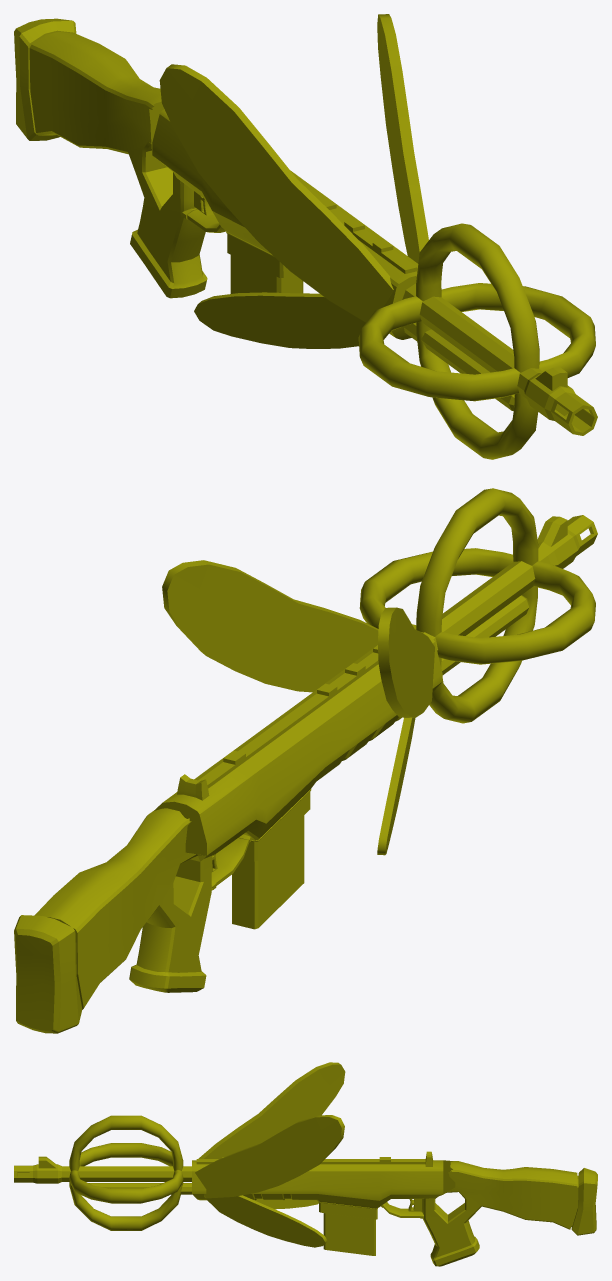
The model's file is Gun-extras-fixed.fbx.
3 views of the same model, one above another, from view 1: azimuth 30°, elevation 25°; view 2: azimuth 150°, elevation 25°; view 3: azimuth 270°, elevation 25° (orthographic). The views are drawn at different scales.
Visible parts, largest first — view 1: gun_base, wings, polySurface446, polySurface433; view 2: gun_base, wings, polySurface446, polySurface433; view 3: gun_base, wings, polySurface433, polySurface446.
Boxes of the visible parts, x1=… form: gun_base: x1=14, y1=18, x2=597, y2=435; wings: x1=159, y1=14, x2=428, y2=348; polySurface446: x1=358, y1=283, x2=595, y2=401; polySurface433: x1=416, y1=223, x2=539, y2=459; gun_base: x1=14, y1=515, x2=597, y2=1033; wings: x1=162, y1=560, x2=434, y2=855; polySurface446: x1=359, y1=548, x2=595, y2=664; polySurface433: x1=416, y1=488, x2=538, y2=723; gun_base: x1=14, y1=1151, x2=597, y2=1266; wings: x1=195, y1=1062, x2=345, y2=1247; polySurface433: x1=69, y1=1115, x2=183, y2=1230; polySurface446: x1=69, y1=1143, x2=183, y2=1203.
Bounding box in the file's own units: 3.92 × 5.38 × 16.4.
